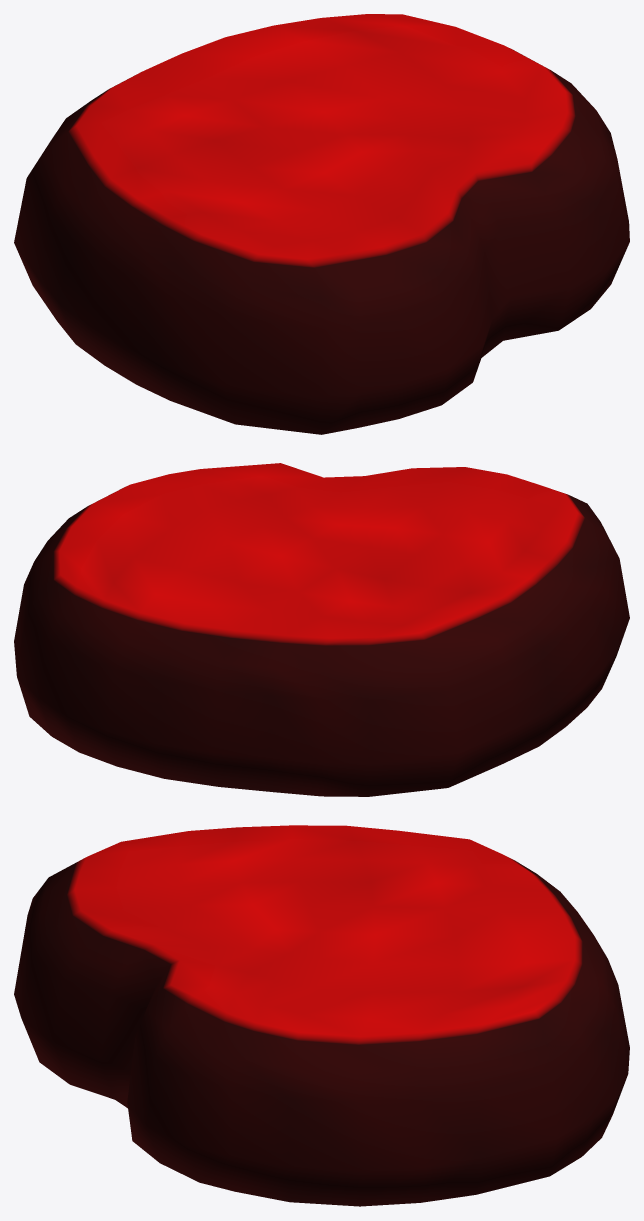
The model's file is geology-landforms-iceplateautiny_v2.fbx.
3 renders of one model, top to bottom at view 1: azimuth 30°, elevation 25°; view 2: azimuth 150°, elevation 25°; view 3: azimuth 270°, elevation 25°, orthographic. The views are drawn at different scales.
Visible parts, largest first — view 1: IcePlateauTiny_v2; view 2: IcePlateauTiny_v2; view 3: IcePlateauTiny_v2.
Part boxes in pixels (<box>): IcePlateauTiny_v2: <box>14,14,629,434</box>; IcePlateauTiny_v2: <box>14,463,629,796</box>; IcePlateauTiny_v2: <box>14,825,629,1206</box>.
Bounding box in the file's own units: 55.07 × 15.04 × 55.
